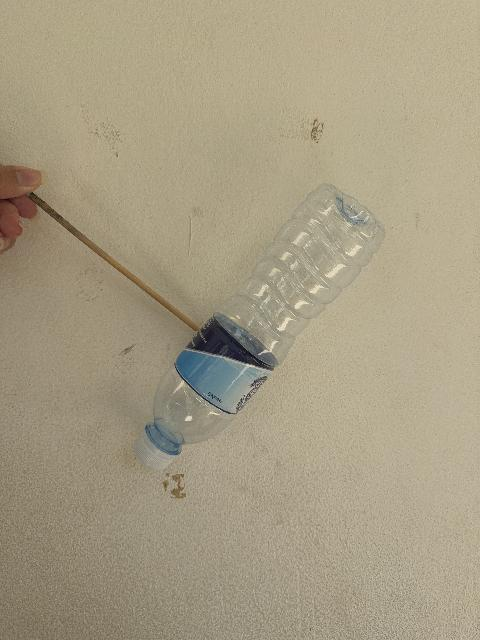bottle: (133, 185, 383, 469)
